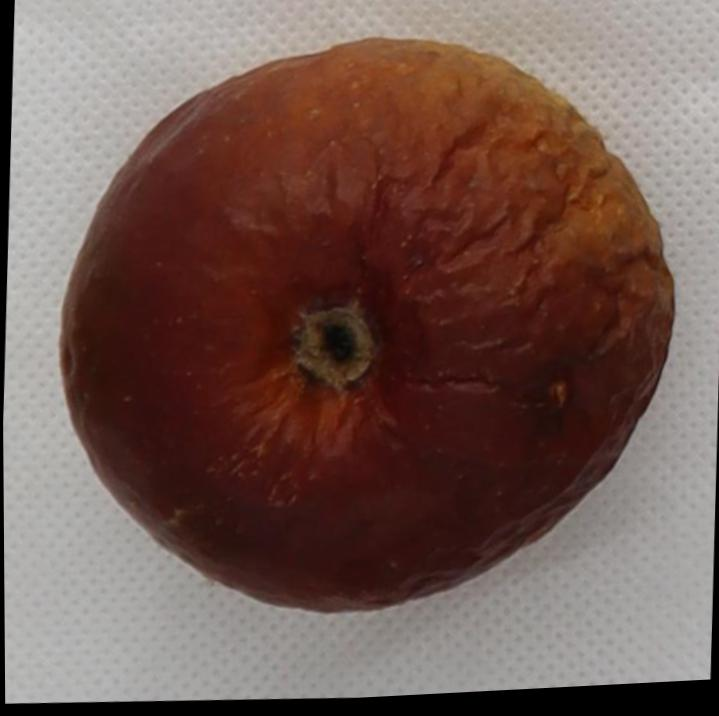apple: (61, 38, 673, 611)
rot_mold_decay: (62, 63, 673, 611)
surface_damage: (549, 380, 566, 404)
